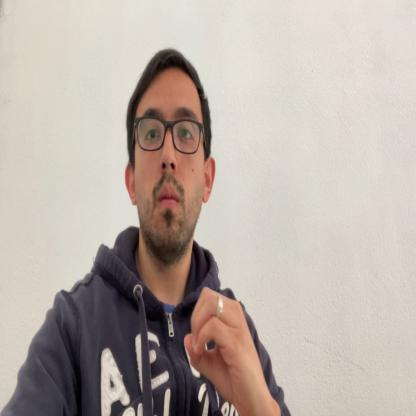O: (184, 284, 253, 410)
